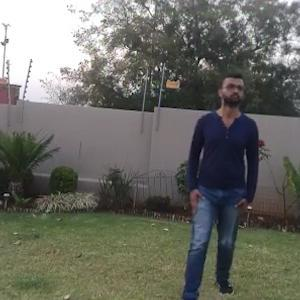follow: (176, 69, 258, 296)
